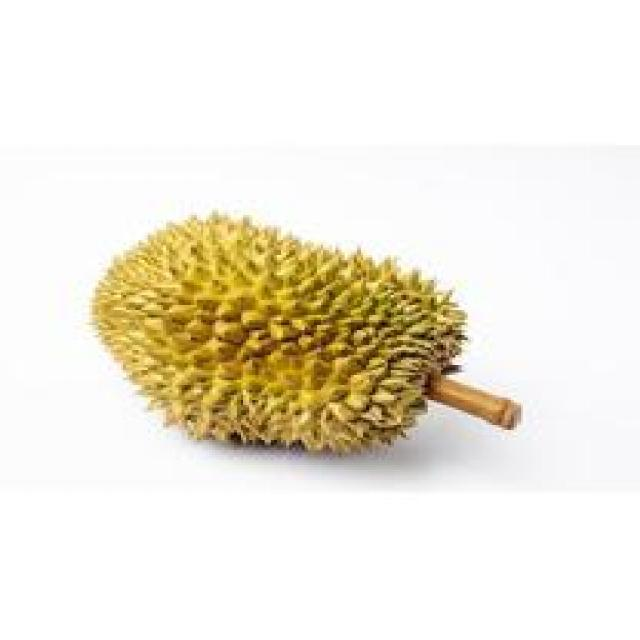fruit: (68, 185, 486, 497)
